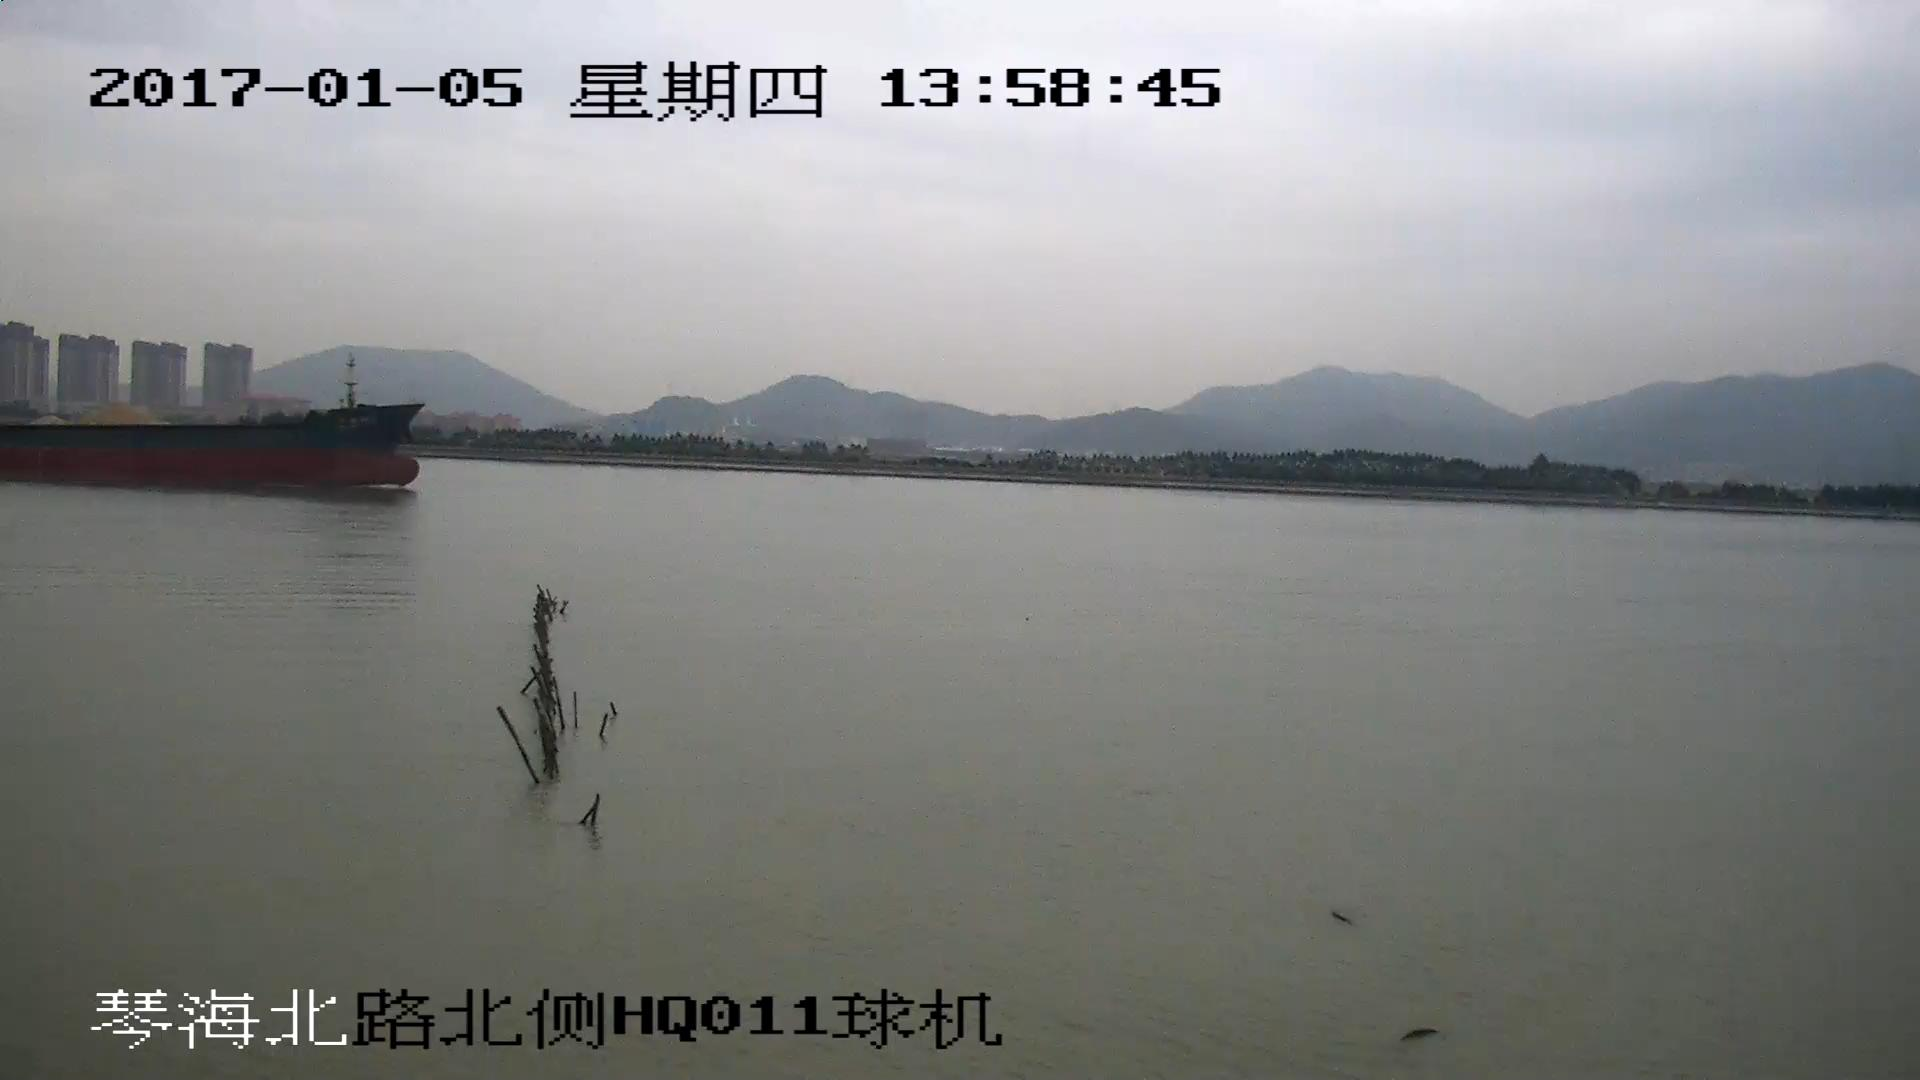general cargo ship: (1, 366, 423, 484)
